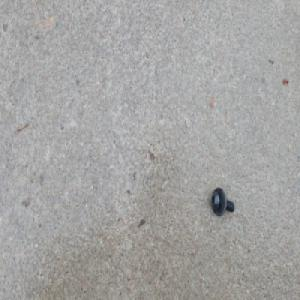BoltWasher: (210, 185, 235, 217)
